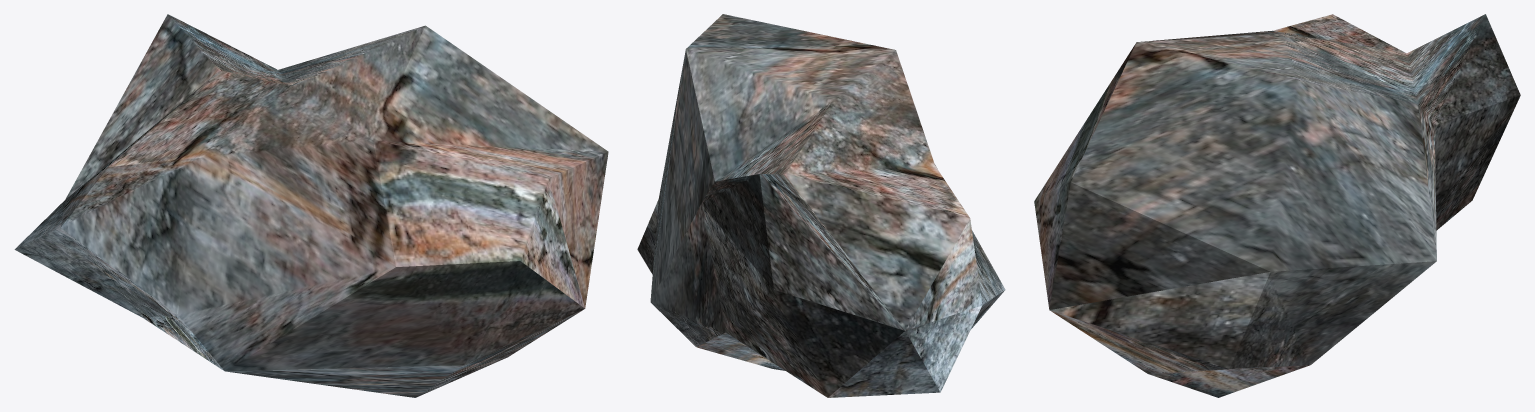
The model's file is roca2.obj.
3 renders of one model, left to right at view 1: azimuth 30°, elevation 25°; view 2: azimuth 150°, elevation 25°; view 3: azimuth 270°, elevation 25°, orthographic. The views are drawn at different scales.
Visible parts, largest first — view 1: roca2:pSphere4; view 2: roca2:pSphere4; view 3: roca2:pSphere4.
Boxes of the visible parts, x1,y1,x2,y2 form: roca2:pSphere4: (14, 14, 608, 397); roca2:pSphere4: (637, 14, 1005, 397); roca2:pSphere4: (1034, 14, 1520, 397).
Bounding box in the file's own units: 0.956 × 0.7378 × 0.9529.
Materials: 1 (1 with a texture image).
